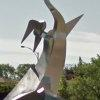Statue: (15, 1, 80, 96)
